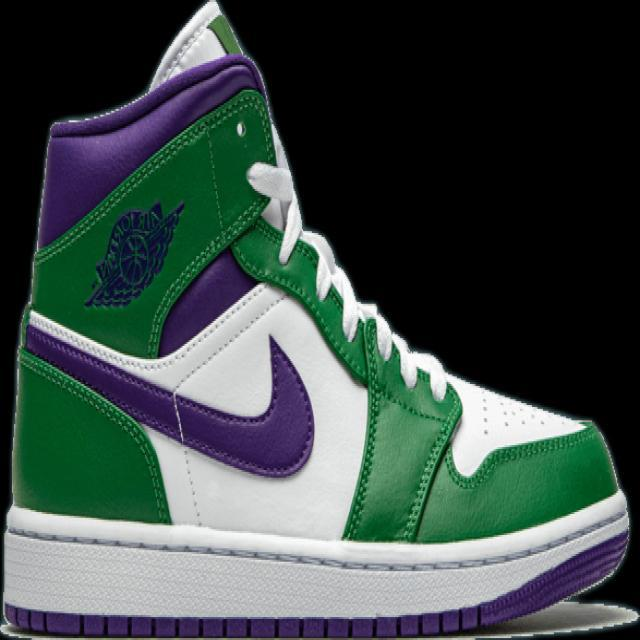J1_InsoleChar: (0, 0, 633, 638)
J1_ShoeLogo: (82, 198, 186, 309)
J1_StitchPattern: (145, 7, 588, 455), (244, 156, 585, 446), (1, 504, 631, 635), (21, 285, 316, 481), (340, 309, 461, 542), (20, 342, 174, 523), (1, 598, 638, 638), (301, 231, 449, 401), (167, 280, 284, 390), (340, 316, 386, 542), (396, 407, 463, 543), (364, 310, 450, 402), (300, 229, 364, 341), (472, 381, 585, 440), (168, 387, 206, 529), (474, 384, 536, 437)
